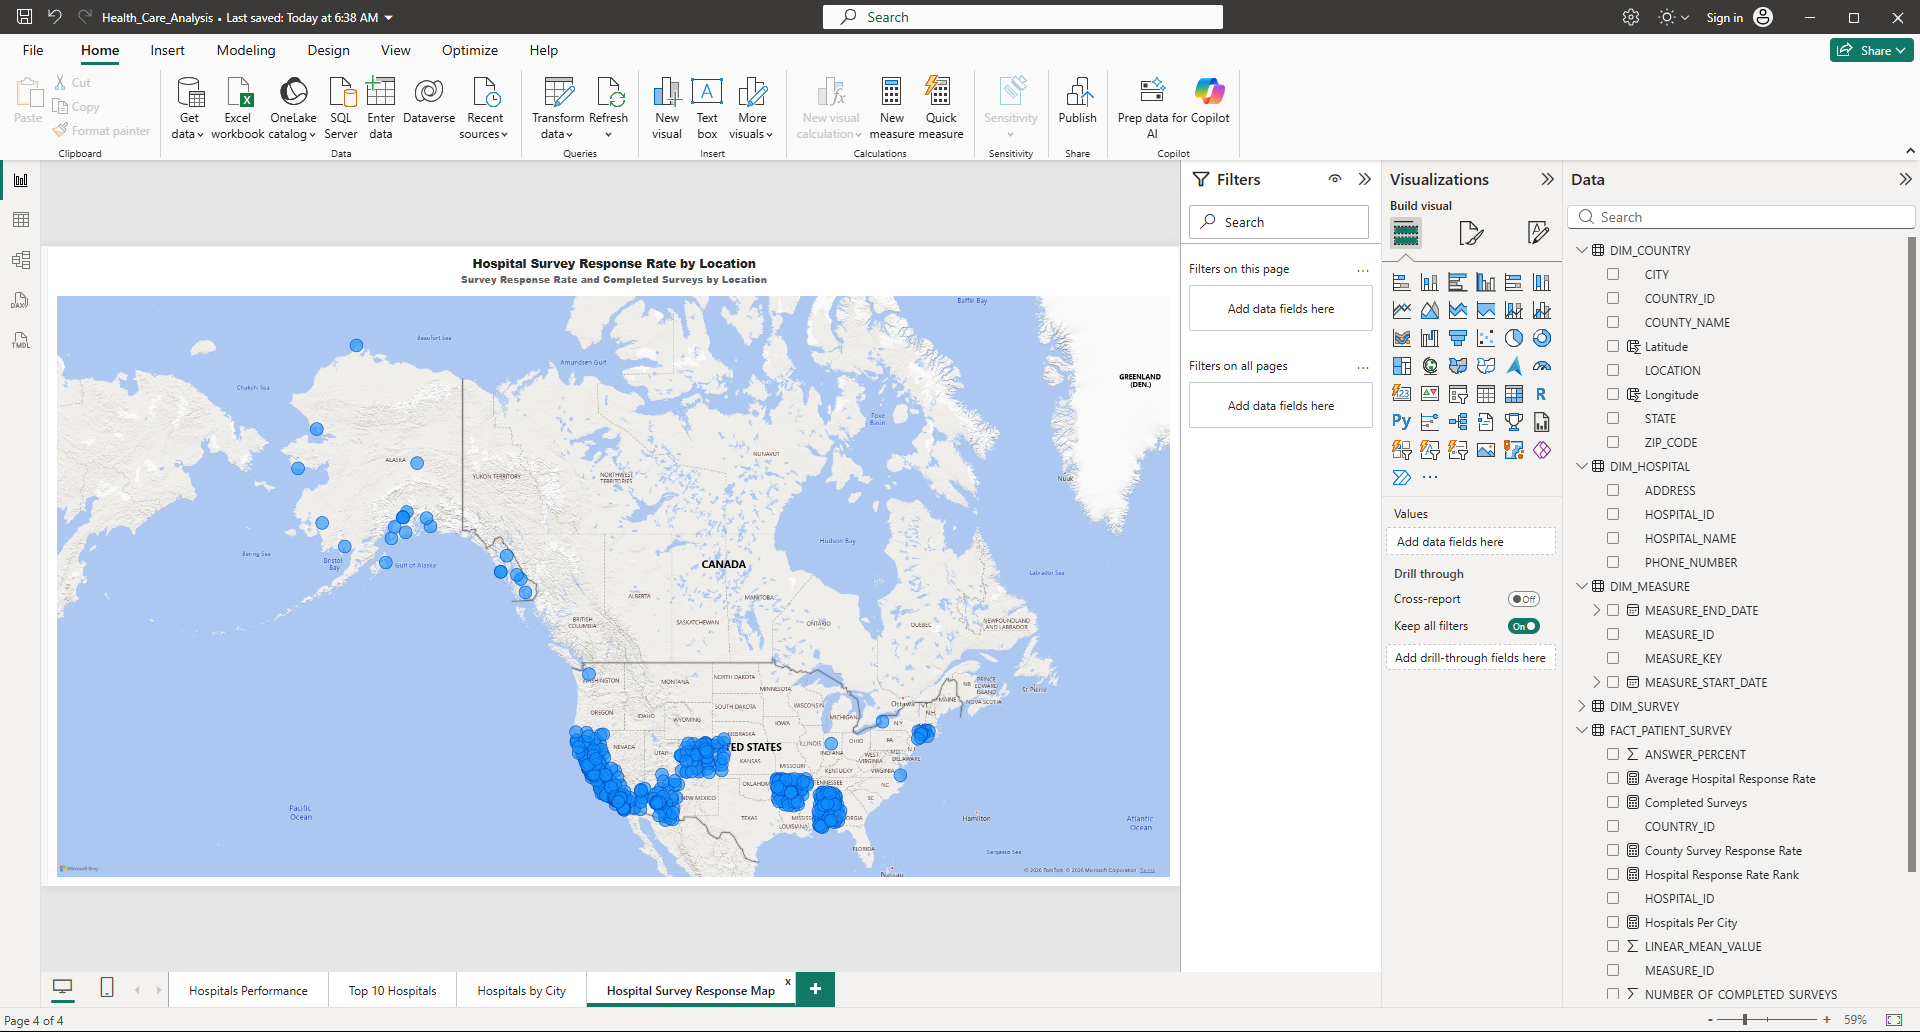

This screenshot's page, from the dashboard's own definition file:
{"tool":"powerbi","page":{"name":"Hospital Survey Response Map","canvas":[1920,1080],"ordinal":3},"visuals":[{"type":"map","title":"Hospital Survey Response Rate by Location","fields":{"Category":["DIM_COUNTRY.LOCATION"]},"box":[10.1,0,1909.9,1080.5],"z":0}]}

Visuals, with their boxes on the page's 1920x1080 design canvas (x1, y1, x2, y2). These are canvas units, not pixel positions in the 1920x1032 screenshot, which may show the page scaled, cropped or inside an application window:
"Hospital Survey Response Rate by Location" map: x1=10, y1=0, x2=1920, y2=1080
